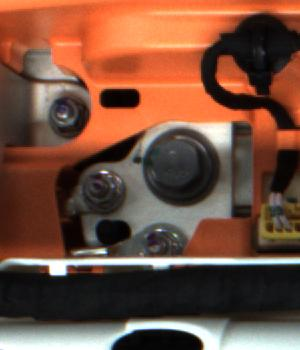nut_b: (134, 120, 230, 213)
screw_s: (135, 217, 182, 256), (76, 171, 123, 210), (44, 98, 84, 132)
